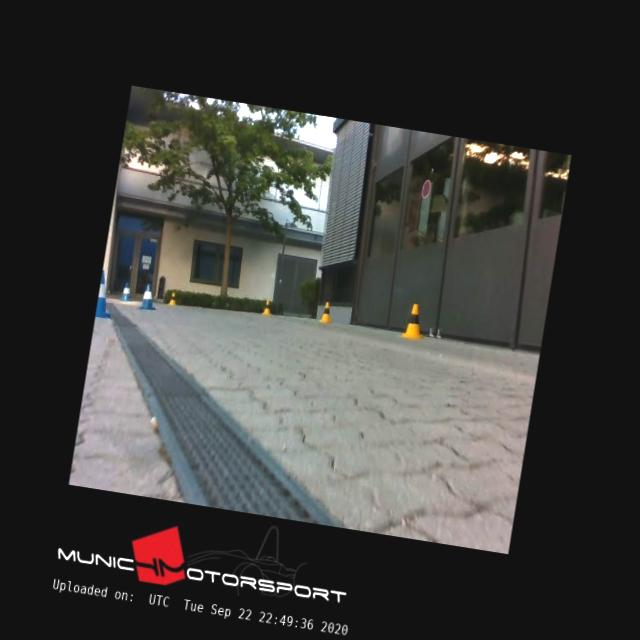blue_cone: (95, 270, 118, 318), (139, 283, 159, 311), (121, 283, 134, 301)
yellow_cone: (402, 302, 428, 340), (320, 302, 334, 324), (262, 299, 274, 316), (169, 293, 178, 306)
